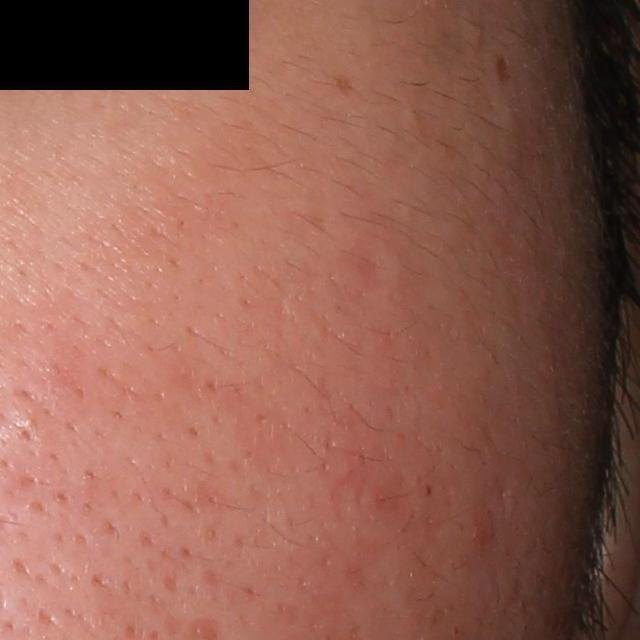melasma: (332, 72, 355, 98), (496, 51, 512, 81)
